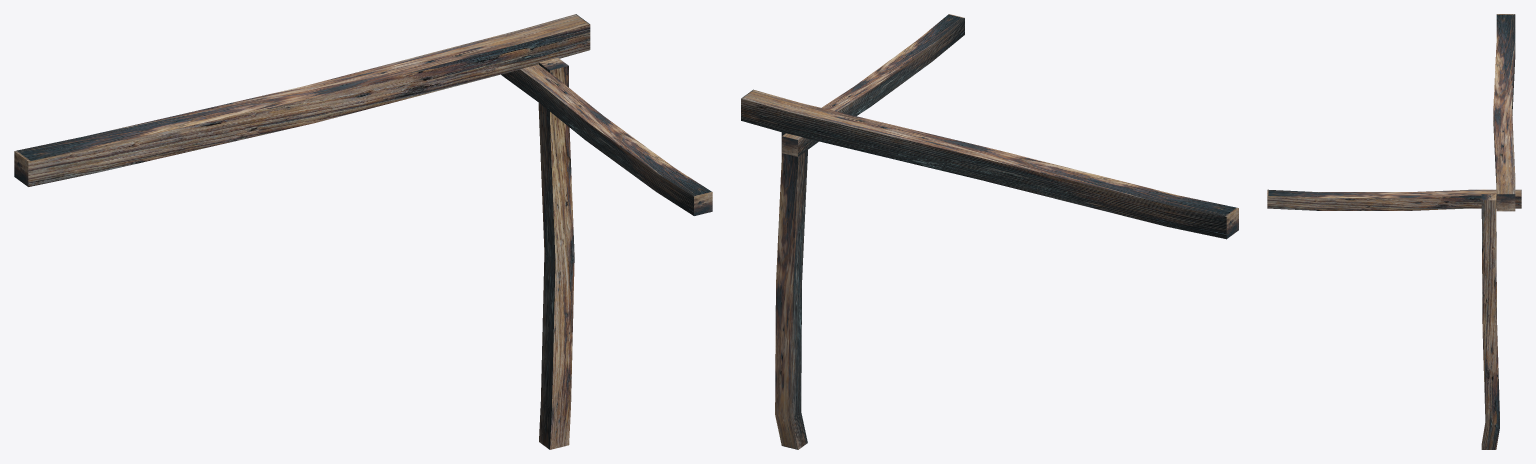
Rendered from house part 5.fbx.
3 views of the same model, side by side, from view 1: azimuth 30°, elevation 25°; view 2: azimuth 150°, elevation 25°; view 3: azimuth 270°, elevation 25° (orthographic). The views are drawn at different scales.
Visible parts, largest first — view 1: pasted__pasted__pCube4.001, pasted__pasted__pCube4, pasted__pasted__pCube4.002; view 2: pasted__pasted__pCube4.001, pasted__pasted__pCube4, pasted__pasted__pCube4.002; view 3: pasted__pasted__pCube4.002, pasted__pasted__pCube4.001, pasted__pasted__pCube4.
Boxes of the visible parts, x1,y1,x2,y2 form: pasted__pasted__pCube4.001: (14,14,590,186); pasted__pasted__pCube4: (538,58,574,449); pasted__pasted__pCube4.002: (501,64,712,215); pasted__pasted__pCube4.001: (741,89,1238,239); pasted__pasted__pCube4: (775,132,807,449); pasted__pasted__pCube4.002: (782,14,964,156); pasted__pasted__pCube4.002: (1267,189,1521,210); pasted__pasted__pCube4.001: (1493,14,1515,211); pasted__pasted__pCube4: (1481,194,1499,449).
Size of the model in its own units: 2.39 by 1.65 by 1.43.
1 material, 1 textured.
